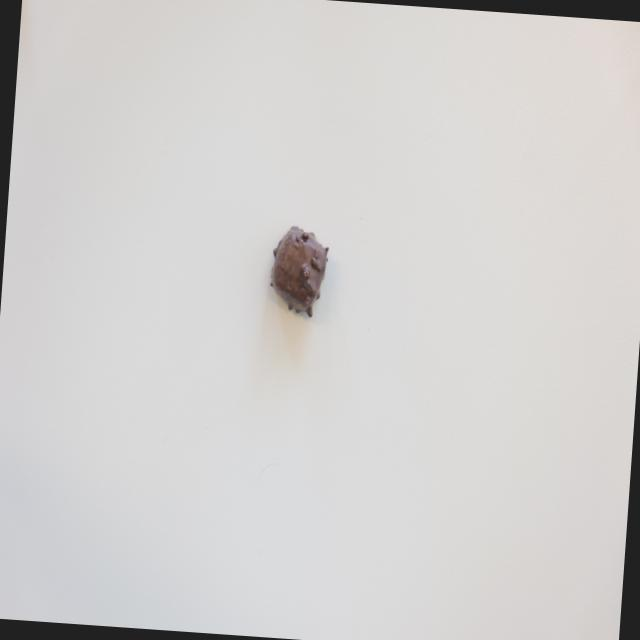Tentation_noir: (268, 223, 330, 318)
